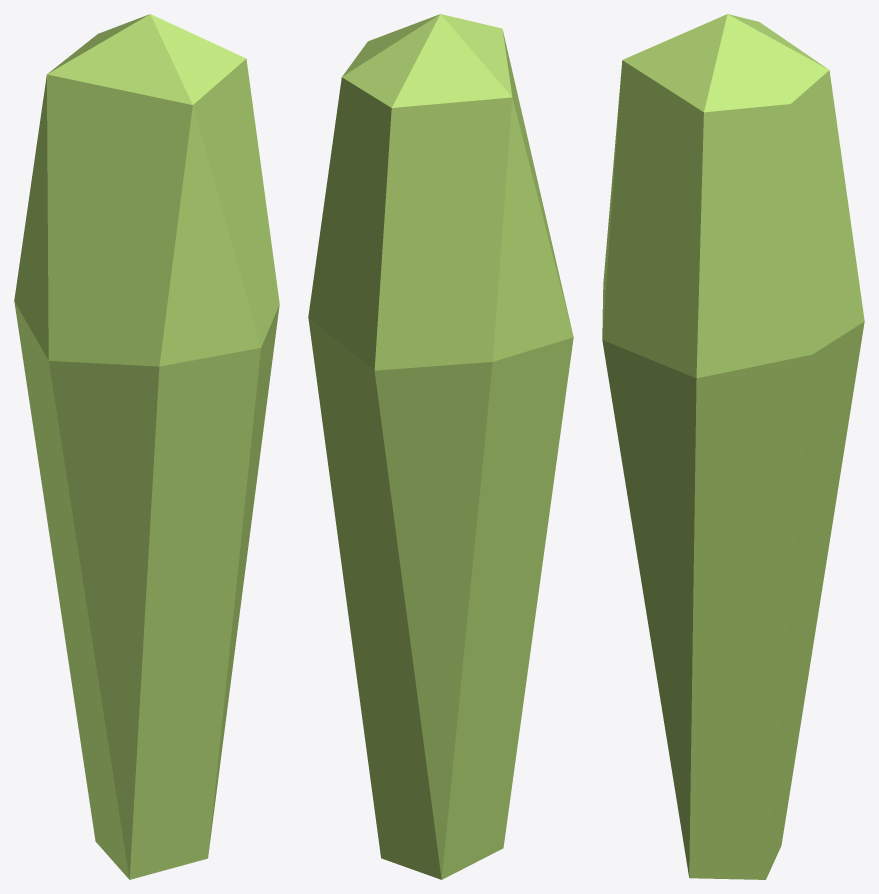
Rendered from Cactus_s_01.fbx.
3 renders of one model, left to right at view 1: azimuth 30°, elevation 25°; view 2: azimuth 150°, elevation 25°; view 3: azimuth 270°, elevation 25°, orthographic.
Parts seen in each view (by area): view 1: Cactus_s_01; view 2: Cactus_s_01; view 3: Cactus_s_01.
Boxes of the visible parts, <box> form: Cactus_s_01: <box>14,14,279,879</box>; Cactus_s_01: <box>308,14,573,879</box>; Cactus_s_01: <box>602,14,864,879</box>.
Bounding box in the file's own units: 18.78 × 65.21 × 18.33.
